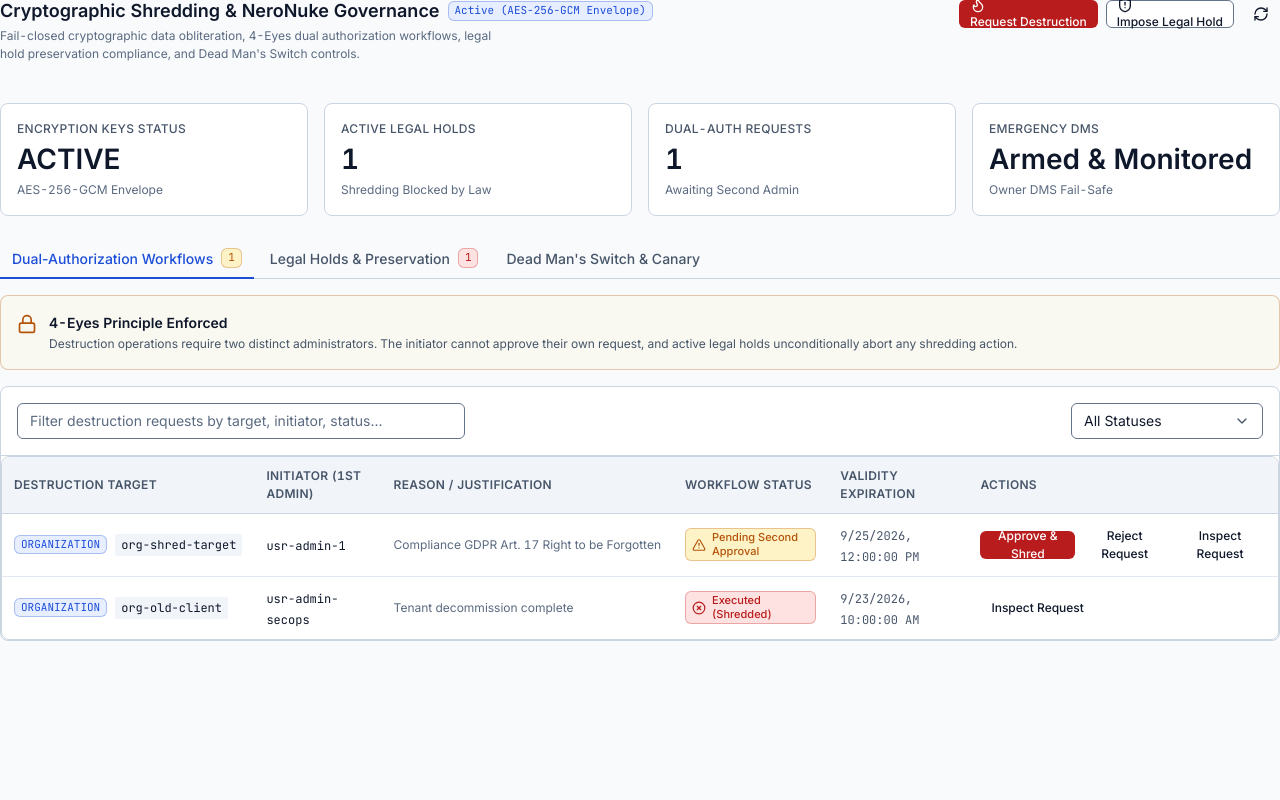
Test: WP-409: NukeRoute (NeroNuke v2 Dual-Auth & Legal Hold UI) › 3. Approves and executes dual-auth destruction as second administrator
Check: the text "org-shred-target" is shown, box left=115, top=534, right=242, bottom=556
Click Approve & Shred on the pending request
Click the button "Approve & Shred".
click(1028, 544)  # box left=980, top=530, right=1075, bottom=558
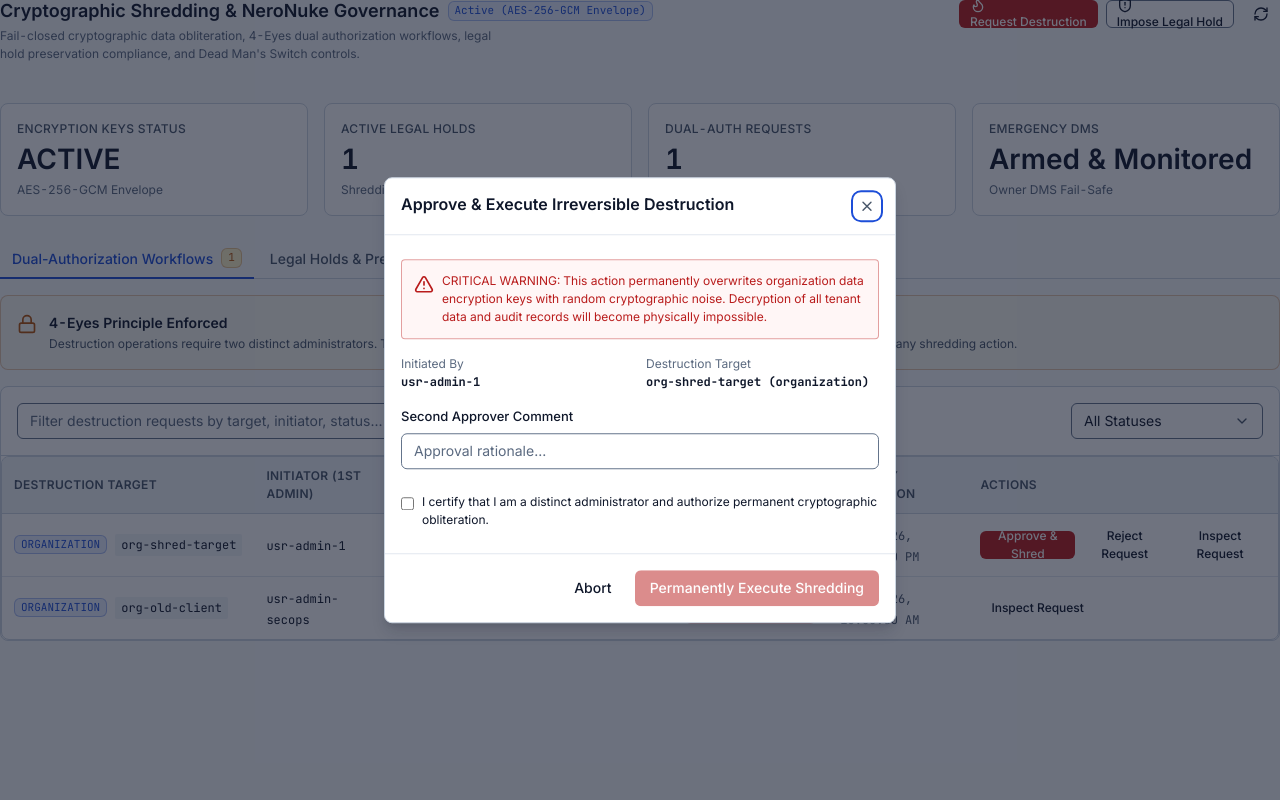
Check: the heading "Approve & Execute Irreversible Destruction" is shown, box left=401, top=194, right=734, bottom=214
Check confirmation certification checkbox
Click the checkbox.
click(408, 503)  # box left=401, top=497, right=414, bottom=510
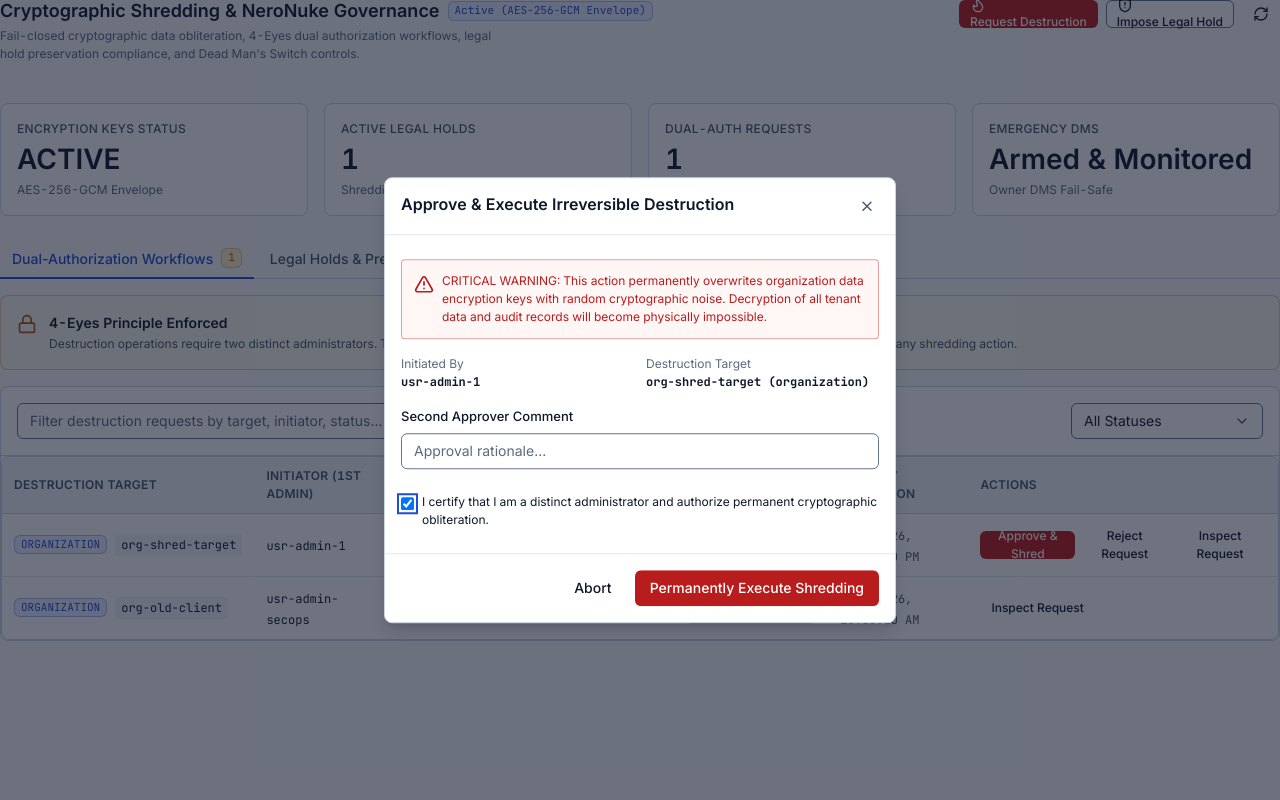
Execute button
Click the button "Permanently Execute Shredding".
click(757, 588)  # box left=635, top=570, right=879, bottom=606
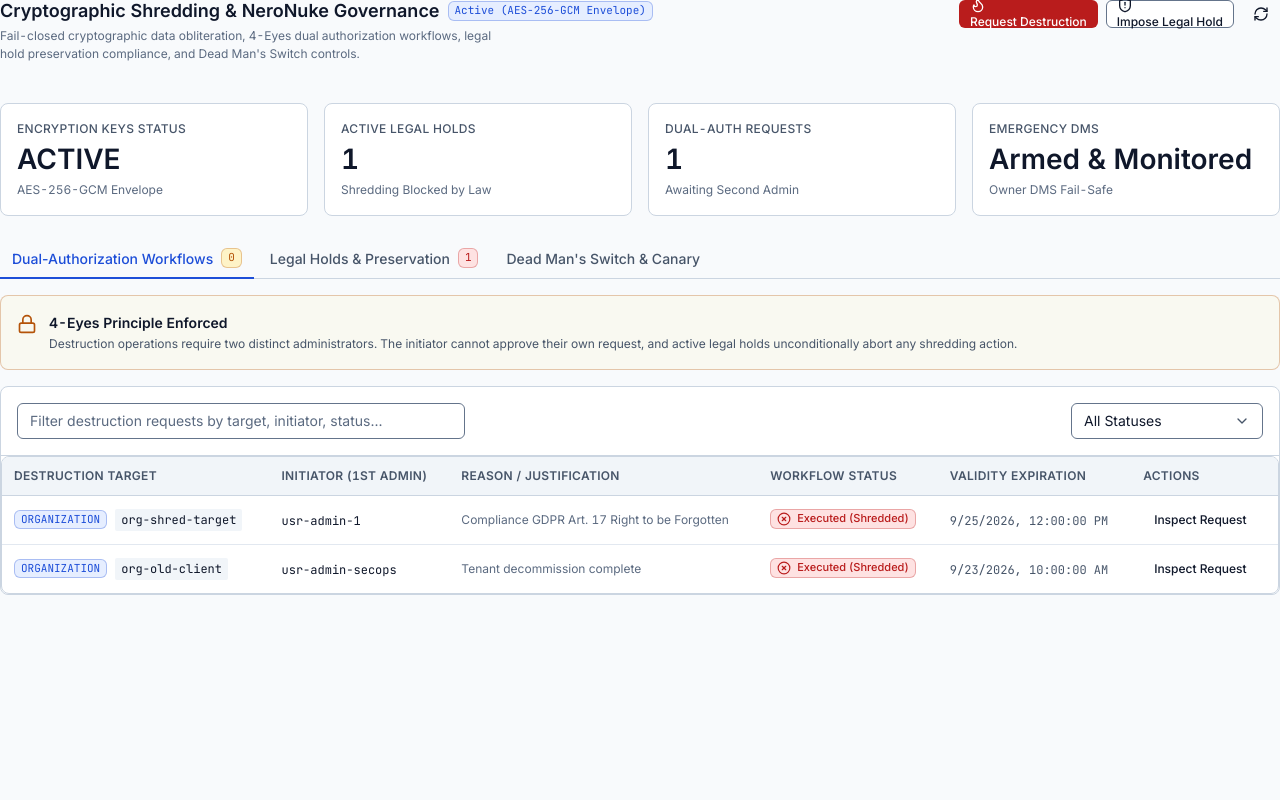
Check: the button "Permanently Execute Shredding" is gone
